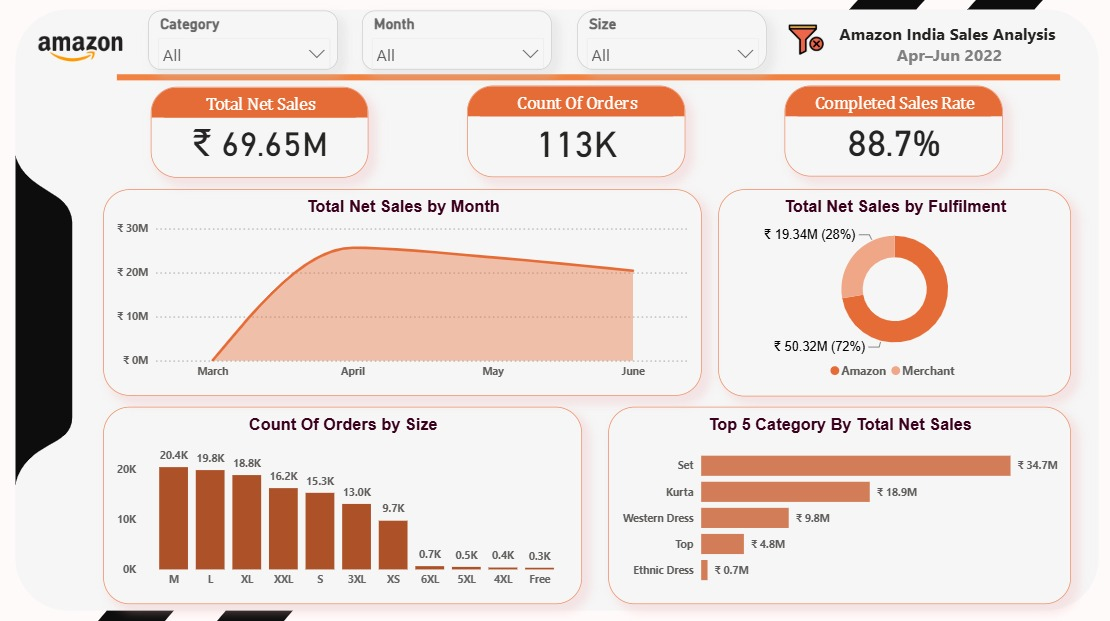

Layout of this report page (visuals, bound fields, positions):
{"tool":"powerbi","page":{"name":"Sales Dashboard","canvas":[1280,720],"ordinal":0},"visuals":[{"type":"card","title":"Total Net Sales","fields":{"Values":["Amazon_Sale_Report.Total Net Sales"]},"box":[175.1,100.9,249,104],"z":0},{"type":"card","title":"Count Of Orders","fields":{"Values":["Amazon_Sale_Report.Count Of Orders"]},"box":[537.4,100.3,249.7,105],"z":1000},{"type":"card","title":"Completed Sales Rate","fields":{"Values":["Amazon_Sale_Report.Completed Sales Rate"]},"box":[900.4,100.3,249.7,104],"z":2000},{"type":"slicer","fields":{"Values":["Amazon_Sale_Report.Category"]},"box":[172.6,13.6,216.6,68.2],"z":3000},{"type":"slicer","fields":{"Values":["Amazon_Sale_Report.Date.Variation.Date Hierarchy.Month"]},"box":[417.8,14.3,216.6,68.2],"z":4000},{"type":"slicer","fields":{"Values":["Amazon_Sale_Report.Size"]},"box":[662.9,14.3,216.6,68.2],"z":5000},{"type":"clusteredBarChart","title":"Top 5 Category By Total Net Sales","fields":{"Category":["Amazon_Sale_Report.Category"],"Y":["Amazon_Sale_Report.Total Net Sales"]},"box":[698.6,467.1,528.6,225.7],"z":6000},{"type":"lineChart","fields":{"Category":["Amazon_Sale_Report.Date.Variation.Date Hierarchy.Month"],"Y":["Amazon_Sale_Report.Total Net Sales"]},"box":[121.4,218.6,684.3,235.7],"z":7000},{"type":"donutChart","fields":{"Category":["Amazon_Sale_Report.Fulfilment"],"Y":["Amazon_Sale_Report.Total Net Sales"]},"box":[824,218.4,403,236.5],"z":8000},{"type":"columnChart","fields":{"Category":["Amazon_Sale_Report.Size"],"Y":["Amazon_Sale_Report.Count Of Orders"]},"box":[121.4,467.1,547.1,225.7],"z":9000},{"type":"image","box":[32.5,13.8,125,83.8],"z":10000},{"type":"image","box":[900,22.9,50,50],"z":11000},{"type":"textbox","box":[950,22.9,277.1,61.4],"z":15000}]}

Visuals, with their boxes in screenshot pixels (x1, y1, x2, y2), scaled from the page's 1280x720 canvas onto the 1110x621 screenshot:
"Total Net Sales" card: bbox=(152, 87, 368, 177)
"Count Of Orders" card: bbox=(466, 87, 683, 177)
"Completed Sales Rate" card: bbox=(781, 87, 997, 176)
slicer - Amazon_Sale_Report.Category: bbox=(150, 12, 338, 71)
slicer - Amazon_Sale_Report.Date.Variation.Date Hierarchy.Month: bbox=(362, 12, 550, 71)
slicer - Amazon_Sale_Report.Size: bbox=(575, 12, 763, 71)
"Top 5 Category By Total Net Sales" clusteredBarChart: bbox=(606, 403, 1064, 598)
lineChart - Amazon_Sale_Report.Date.Variation.Date Hierarchy.Month x Amazon_Sale_Report.Total Net Sales: bbox=(105, 189, 699, 392)
donutChart - Amazon_Sale_Report.Fulfilment x Amazon_Sale_Report.Total Net Sales: bbox=(715, 188, 1064, 392)
columnChart - Amazon_Sale_Report.Size x Amazon_Sale_Report.Count Of Orders: bbox=(105, 403, 580, 598)
image: bbox=(28, 12, 137, 84)
image: bbox=(780, 20, 824, 63)
textbox: bbox=(824, 20, 1064, 73)
